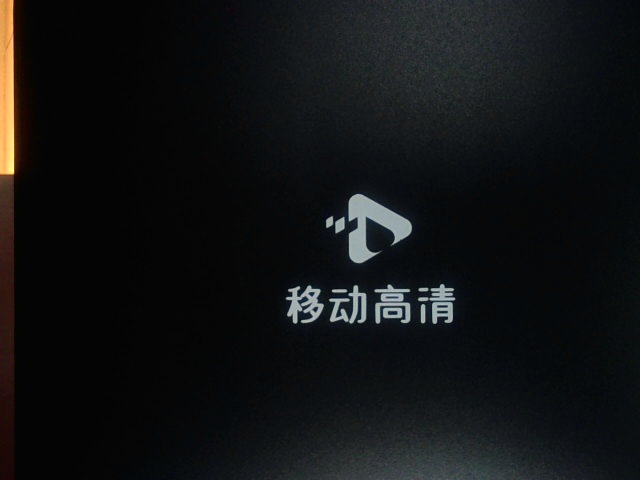AO_MobileHD: (257, 179, 463, 337)
